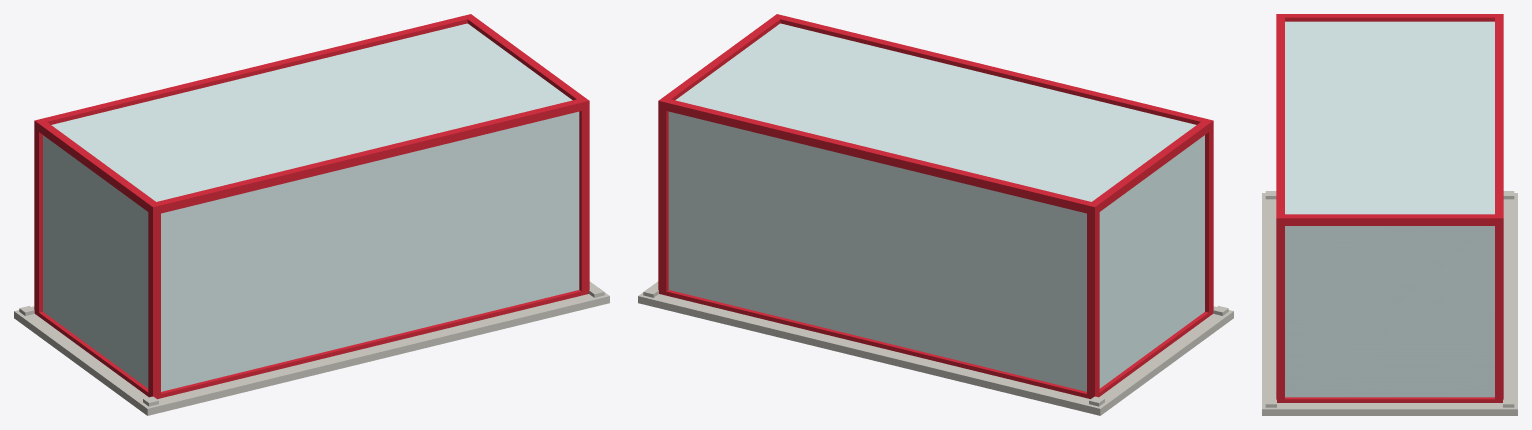
File: uaz-buhanka.glb
3 views of the same model, side by side, from view 1: azimuth 30°, elevation 25°; view 2: azimuth 150°, elevation 25°; view 3: azimuth 270°, elevation 25° (orthographic). The views are drawn at different scales.
Bounding box in the file's own units: 0.41 × 0.1695 × 0.205.
